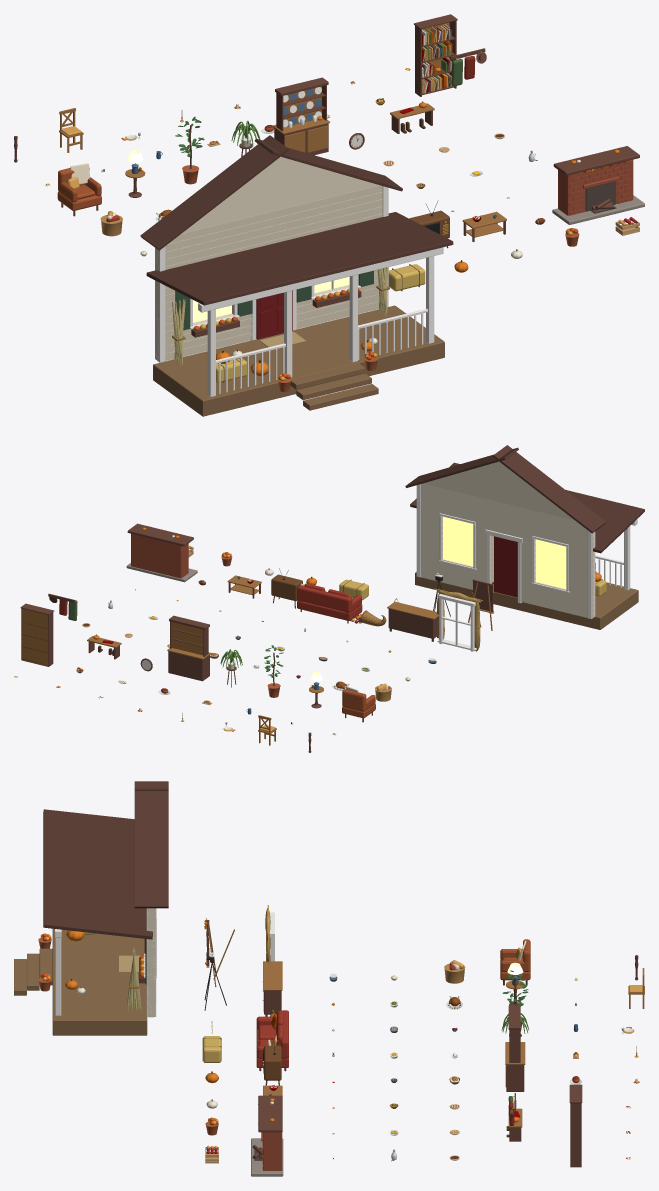
File: thanksgiving.glb
3 views of the same model, one above another, from view 1: azimuth 30°, elevation 25°; view 2: azimuth 150°, elevation 25°; view 3: azimuth 270°, elevation 25° (orthographic). The views are drawn at different scales.
Visible parts, largest first — view 1: porch_house, fireplace_all, hutch_wood, porch_decor, bookshelf_books, bookshelf_wood, armchair_fabric, front_door_mesh, coffee_table_all, hay_bale_mesh, hutch_china, coat_hooks_coats (+1 smaller); view 2: porch_house, fireplace_all, hutch_wood, bookshelf_wood, sofa_fabric, sideboard_all, front_door_mesh, window_frame, armchair_fabric, window_curtains, tv_cabinet, easel_wood (+1 smaller); view 3: porch_house, fireplace_all, hutch_wood, sofa_fabric, porch_decor, bookshelf_wood, sideboard_all, armchair_fabric, tv_cabinet.
Part boxes in pixels (x1,y1,x2,y2): porch_house: [140, 135, 453, 416]; fireplace_all: [552, 146, 644, 224]; hutch_wood: [272, 77, 330, 155]; porch_decor: [172, 267, 389, 391]; bookshelf_books: [422, 24, 452, 93]; bookshelf_wood: [414, 14, 457, 96]; armchair_fabric: [57, 168, 101, 210]; front_door_mesh: [256, 290, 292, 339]; coffee_table_all: [462, 211, 506, 241]; hay_bale_mesh: [388, 264, 425, 291]; hutch_china: [283, 87, 322, 127]; coat_hooks_coats: [451, 51, 486, 86]; porch_house: [405, 445, 644, 629]; fireplace_all: [126, 523, 197, 582]; hutch_wood: [167, 615, 211, 681]; bookshelf_wood: [20, 603, 53, 666]; sofa_fabric: [297, 583, 362, 620]; sideboard_all: [387, 601, 439, 641]; front_door_mesh: [494, 536, 517, 597]; window_frame: [437, 594, 476, 651]; armchair_fabric: [342, 689, 375, 718]; window_curtains: [434, 588, 482, 651]; tv_cabinet: [271, 568, 302, 608]; easel_wood: [468, 579, 494, 630]; porch_house: [14, 781, 168, 1035]; fireplace_all: [251, 1095, 283, 1176]; hutch_wood: [505, 1005, 525, 1091]; sofa_fabric: [256, 1010, 288, 1067]; porch_decor: [38, 930, 141, 1010]; bookshelf_wood: [569, 1084, 582, 1167]; sideboard_all: [262, 961, 282, 1016]; armchair_fabric: [500, 939, 530, 980]; tv_cabinet: [263, 1039, 281, 1085].
Bounding box in the file's own units: 15.9 × 5.91 × 16.65.
